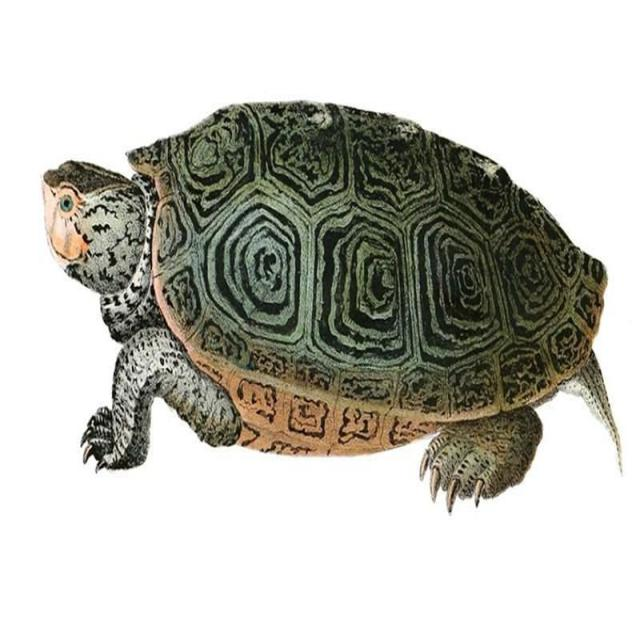turtle: (13, 70, 590, 510)
